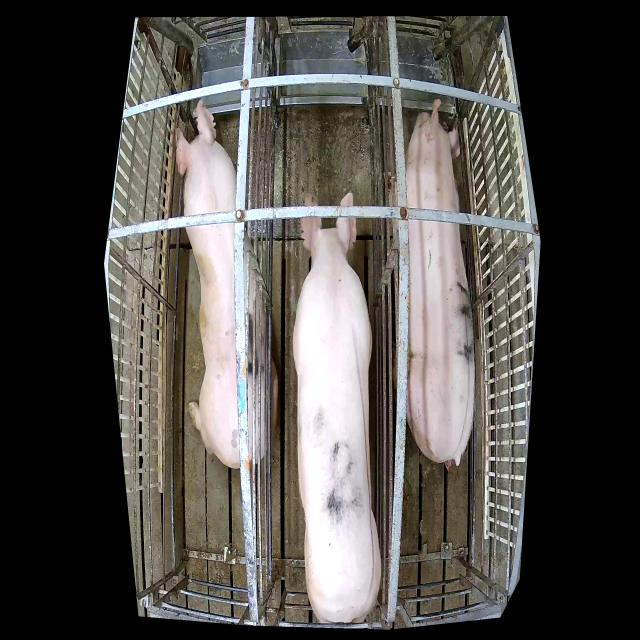pig: (293, 190, 381, 622), (175, 100, 278, 469), (405, 99, 475, 468)
